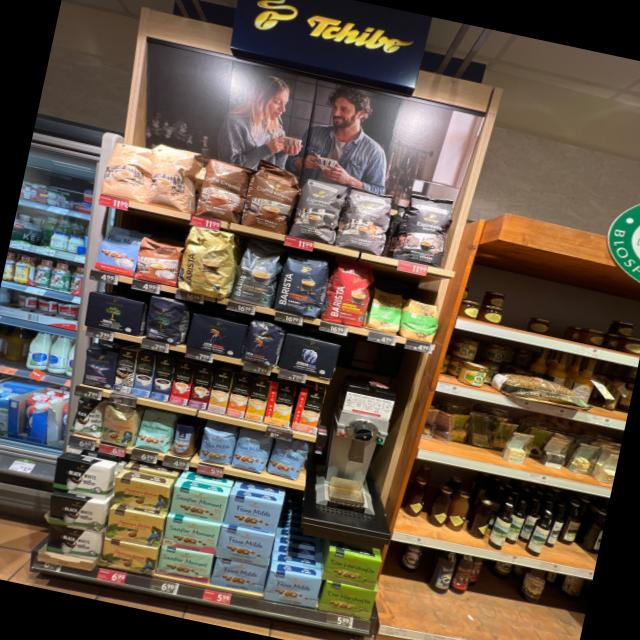AB Bohne: (278, 332, 340, 381)
Athiopien Bohne: (399, 296, 443, 344)
Athiopien Gemahlen: (365, 286, 407, 335)
BM Bohne: (140, 294, 188, 346)
BM Gemahlen: (81, 290, 148, 336)
BW Bohne: (70, 397, 106, 439)
BW Gemahlen: (50, 456, 112, 500), (44, 492, 106, 534), (43, 522, 103, 562)
Barista CB: (175, 223, 242, 300)
Barista Espresso: (273, 252, 331, 320)
Barista Kolumbien: (322, 256, 378, 328)
C Fino Bohne: (79, 342, 120, 389)
CC Mild: (141, 140, 205, 216), (100, 137, 154, 203)
CC Vollmundig: (132, 234, 184, 288)
CC Vollmundig 36 Pads: (240, 156, 302, 236), (194, 154, 252, 223), (229, 244, 282, 308)
Colombia BB Bohne: (104, 506, 165, 549), (109, 475, 172, 516), (98, 537, 158, 577), (98, 402, 140, 449)
Espresso Aromatisch: (290, 173, 348, 246)
Espresso Kraftig: (393, 190, 458, 268)
Espresso M Art: (336, 184, 396, 256)
FM 36 Pads: (94, 222, 144, 278)
FM Bohne: (214, 524, 274, 568), (222, 492, 282, 534), (264, 569, 323, 611), (210, 556, 268, 594), (195, 423, 238, 468), (230, 428, 272, 474), (267, 438, 310, 482)
FM Instant: (168, 420, 200, 460)
Herzhatfe Mundig: (321, 547, 382, 590), (318, 579, 378, 621)
LG Bohne: (240, 316, 286, 368)
LG Gemahlen: (183, 310, 247, 359)
SM Bohne: (134, 406, 178, 454)
SM Gemahlen: (160, 514, 219, 556), (154, 544, 214, 585), (168, 484, 228, 524), (213, 555, 214, 556)
Simo CCMild: (262, 380, 297, 428)
Simo CCMild bigpack: (243, 376, 270, 422)
Simo CCVollmundig: (290, 386, 325, 434)
Simo CCVollmundig bigpack: (225, 372, 252, 418)
Simo Decaff: (206, 368, 233, 413)
Simo Es Brazil: (168, 358, 195, 406)
Simo Es Caramel: (187, 363, 214, 410)
Simo Es Elegant: (112, 347, 137, 394)
Simo Es Kraft: (150, 355, 174, 401)
Simo Es Vanilla: (131, 351, 155, 398)
